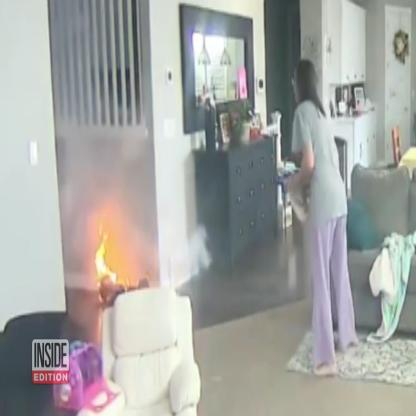fire: (95, 226, 117, 301)
